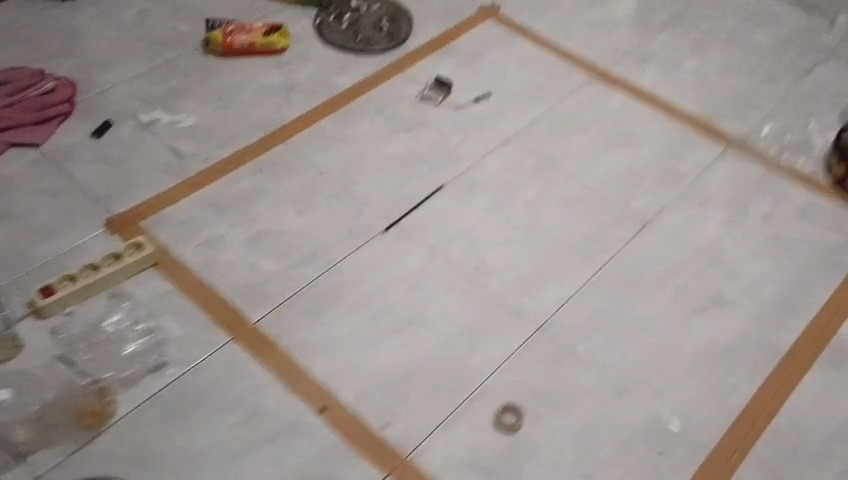floor marking: (105, 6, 747, 479), (691, 275, 847, 479)
